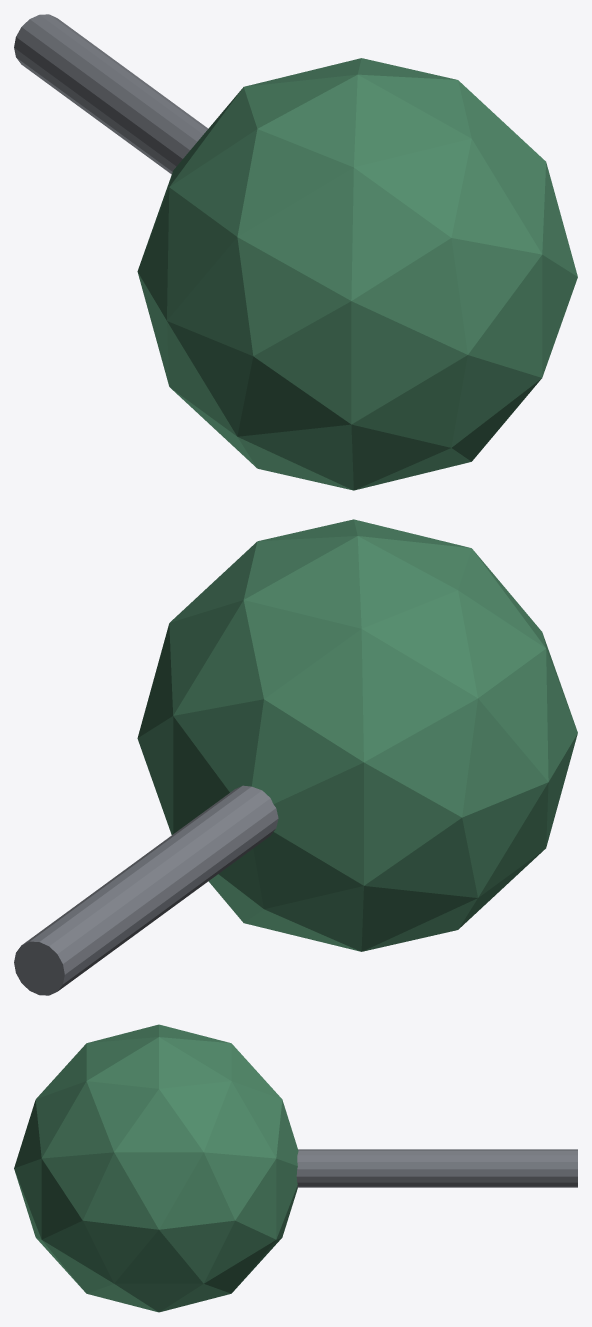
Rendered from street_tree_v01.glb.
3 views of the same model, one above another, from view 1: azimuth 30°, elevation 25°; view 2: azimuth 150°, elevation 25°; view 3: azimuth 270°, elevation 25° (orthographic). The views are drawn at different scales.
Parts seen in each view (by area): view 1: sphere_1, cylinder_0; view 2: sphere_1, cylinder_0; view 3: sphere_1, cylinder_0.
Boxes of the visible parts, <box> form: sphere_1: <box>137,58,577,490</box>; cylinder_0: <box>14,14,208,174</box>; sphere_1: <box>137,519,577,951</box>; cylinder_0: <box>14,785,278,995</box>; sphere_1: <box>14,1024,298,1312</box>; cylinder_0: <box>296,1149,577,1187</box>.
Bounding box in the file's own units: 1.8 × 1.8 × 3.5.
